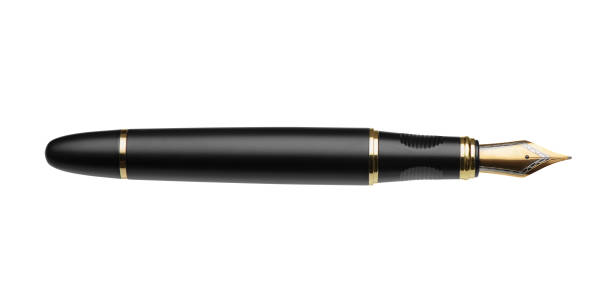pen: (41, 119, 583, 195)
